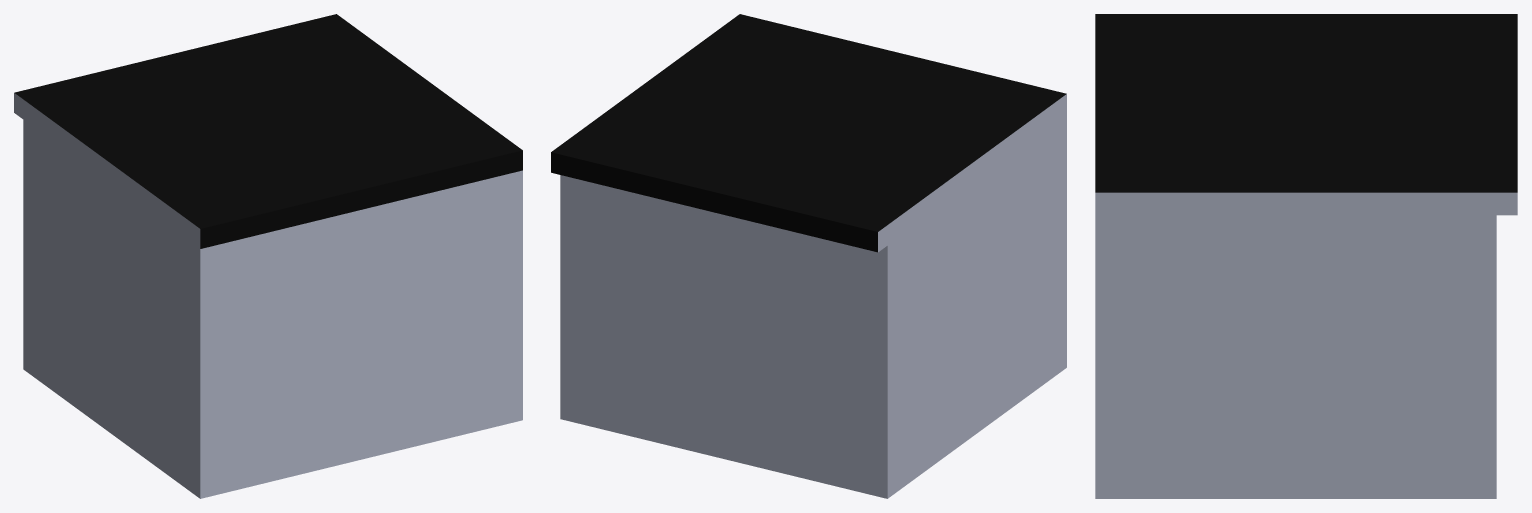
The model's file is Def left.fbx.
3 renders of one model, left to right at view 1: azimuth 30°, elevation 25°; view 2: azimuth 150°, elevation 25°; view 3: azimuth 270°, elevation 25°, orthographic. The views are drawn at different scales.
Parts seen in each view (by area): view 1: Cube.002; view 2: Cube.002; view 3: Cube.002.
Part boxes in pixels (x1,y1,x2,y2): Cube.002: [14, 14, 522, 498]; Cube.002: [551, 14, 1066, 498]; Cube.002: [1095, 14, 1517, 498].
Bounding box in the file's own units: 200 × 160 × 200.
